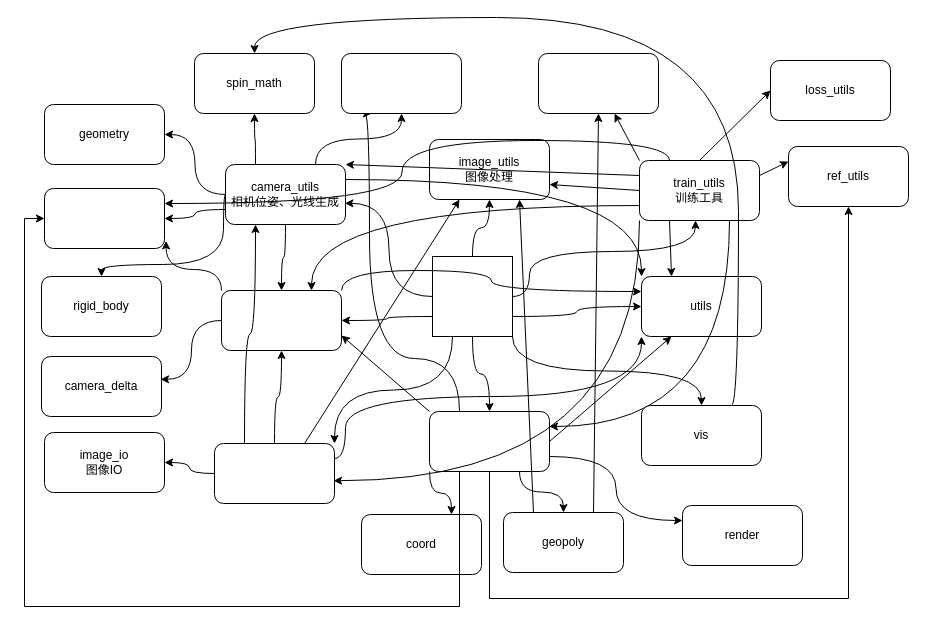
This 926x632 diagram has some shape labels left out. Each missing label, with the centre of its shape:
"configs 全局配置" belongs at pixel 281 320.
"datasets 数据集处理" belongs at pixel 274 473.
"grid_utils" belongs at pixel 598 83.
"math" belongs at pixel 104 218.
"models 模型网络" belongs at pixel 489 441.
"step_fun" belongs at pixel 401 83.
"train 训练" belongs at pixel 472 296.
